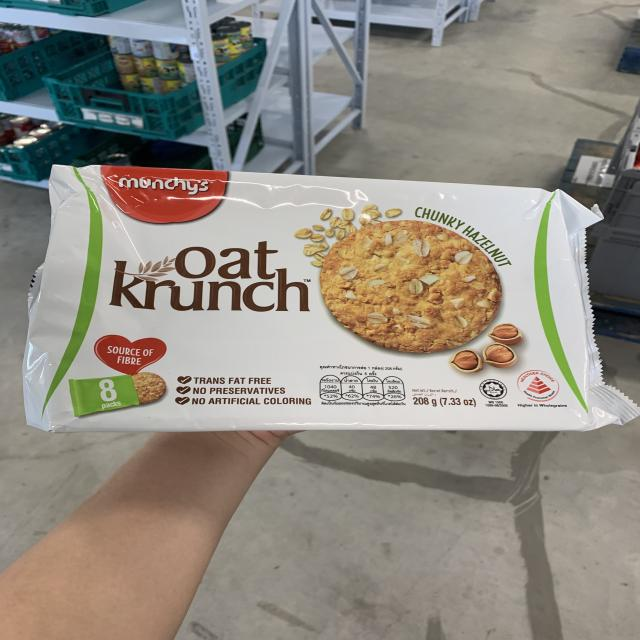object_name: (55, 174, 574, 421)
